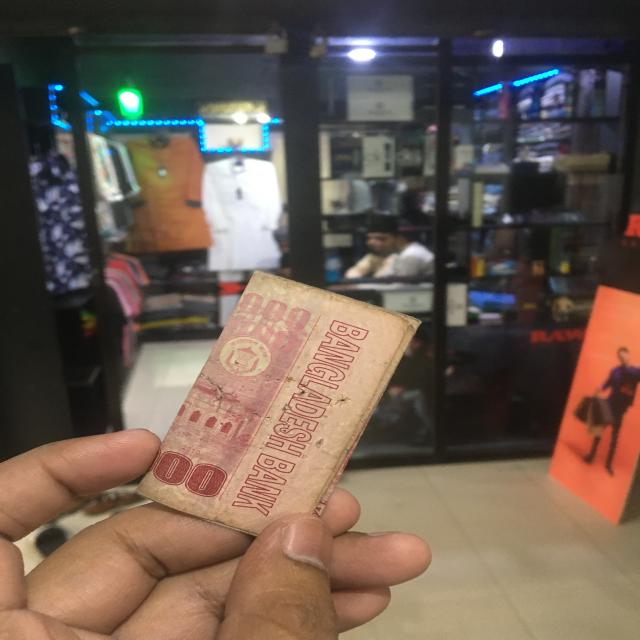Taka: (139, 279, 417, 542)
